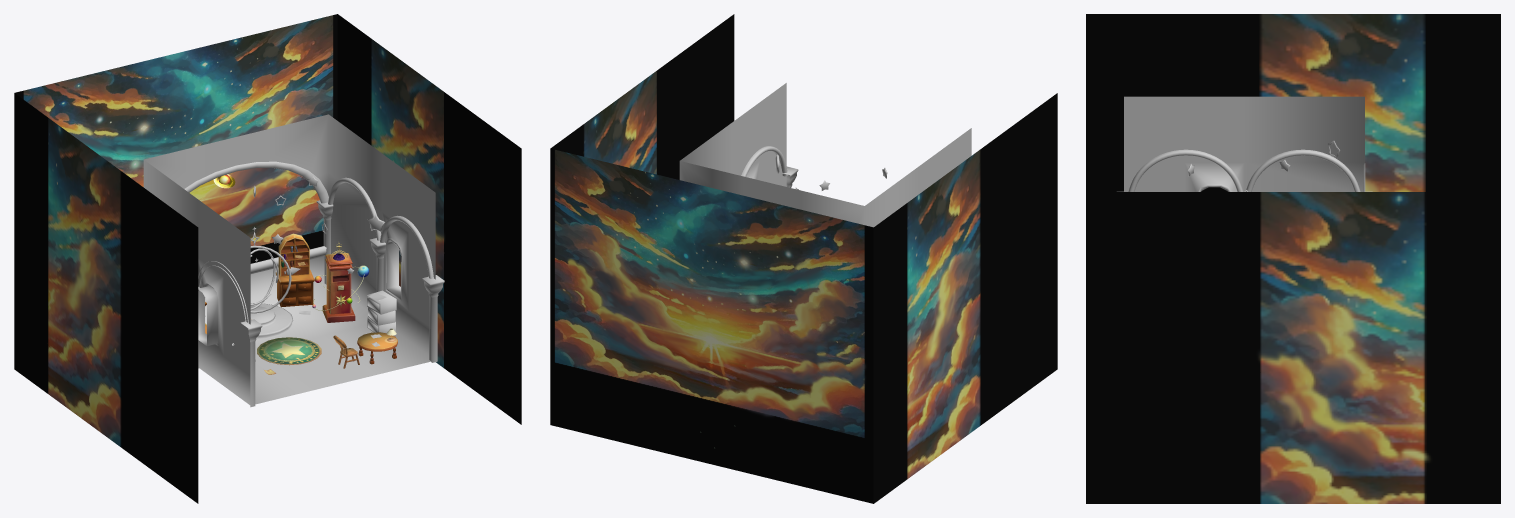
Rendered from housemu full_modeling.fbx.
The picture shows the model from 3 angles, left to right: view 1: azimuth 30°, elevation 25°; view 2: azimuth 150°, elevation 25°; view 3: azimuth 270°, elevation 25°; orthographic projection. The views are drawn at different scales.
Parts seen in each view (by area): view 1: Sphere002, Object004, Object015; view 2: Sphere002, Object004; view 3: Sphere002, Object004.
Part boxes in pixels (x1=…): Sphere002: x1=14, y1=14, x2=521, y2=503; Object004: x1=143, y1=114, x2=444, y2=407; Object015: x1=205, y1=233, x2=397, y2=374; Sphere002: x1=550, y1=14, x2=1057, y2=503; Object004: x1=679, y1=83, x2=971, y2=227; Sphere002: x1=1086, y1=14, x2=1500, y2=503; Object004: x1=1117, y1=96, x2=1372, y2=191.
Size of the model in its own units: 1249 by 1021 by 1230.
